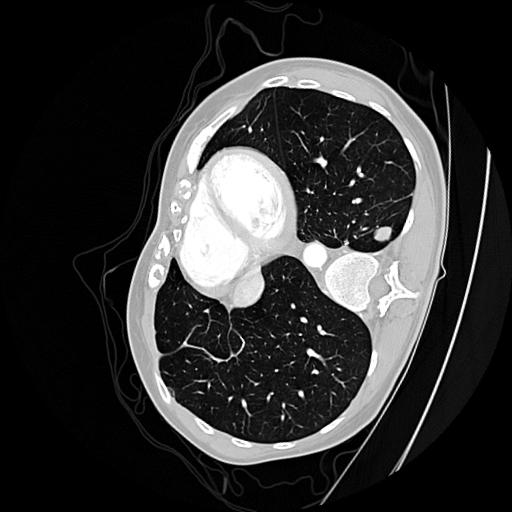nodule: (371, 223, 398, 250)
